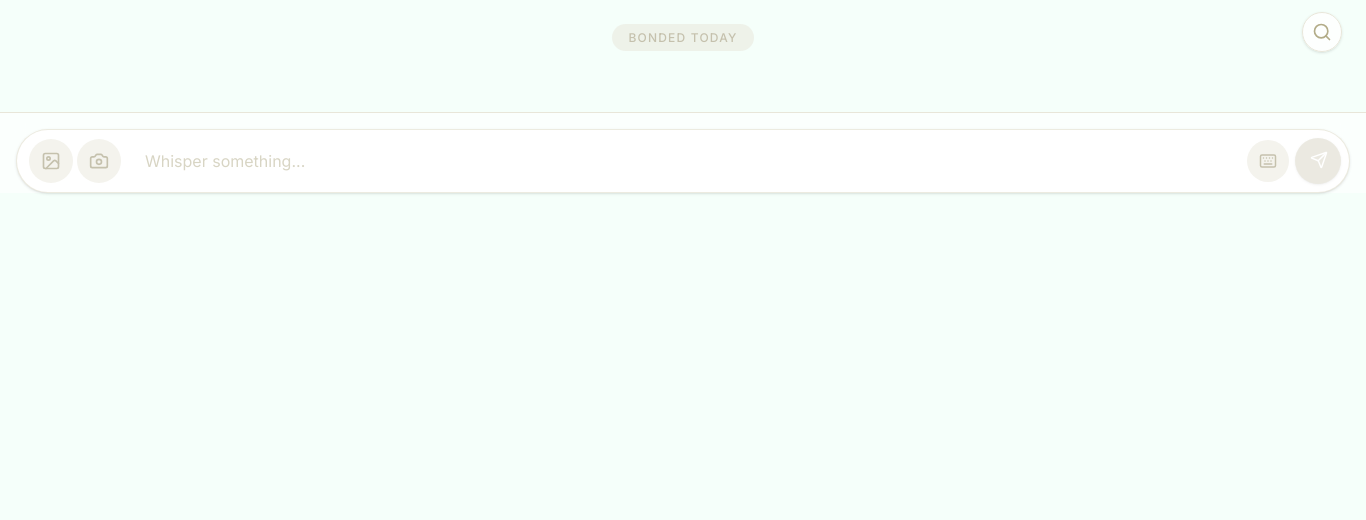
ChatScreen › should hide virtual keyboard when toggle is clicked twice
Click the button named "Toggle keyboard". click: (1268, 161)
box: 1247,140 -> 1289,182
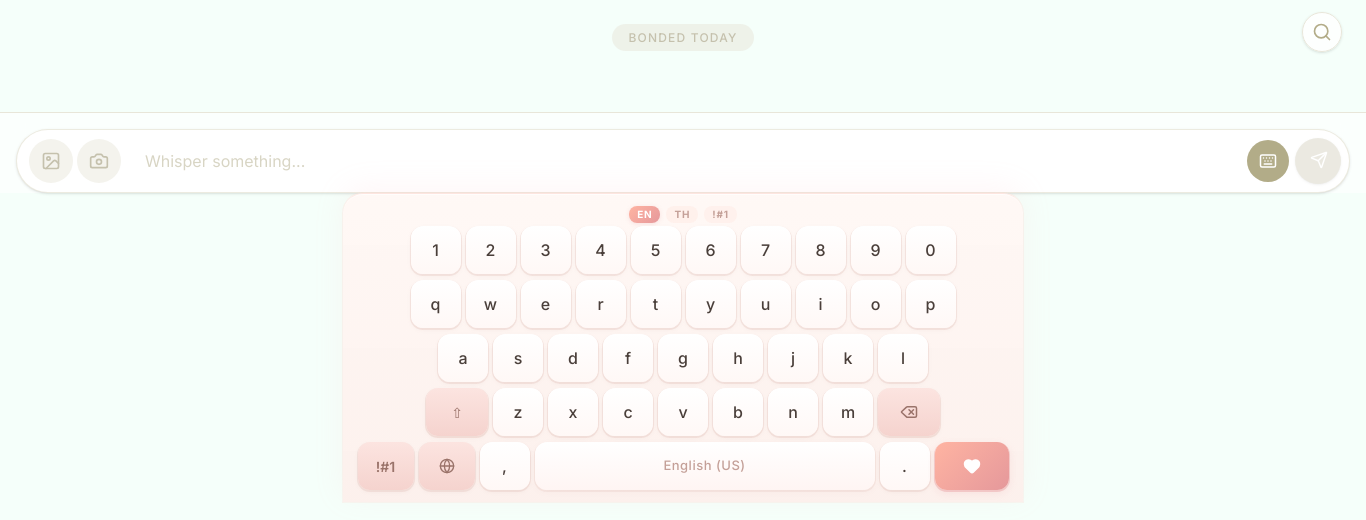
Expected: the element with test id "virtual-keyboard" is shown, 343,193 -> 1023,502
Click the button named "Toggle keyboard". click: (1268, 161)
box: 1247,140 -> 1289,182
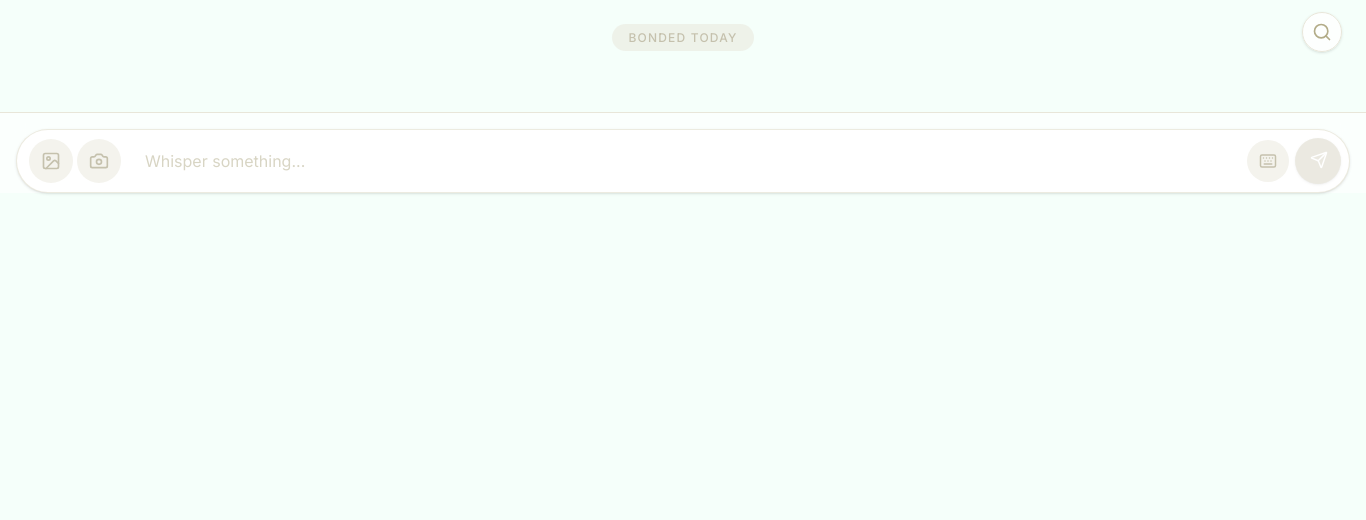
Expected: the element with test id "virtual-keyboard" is gone
